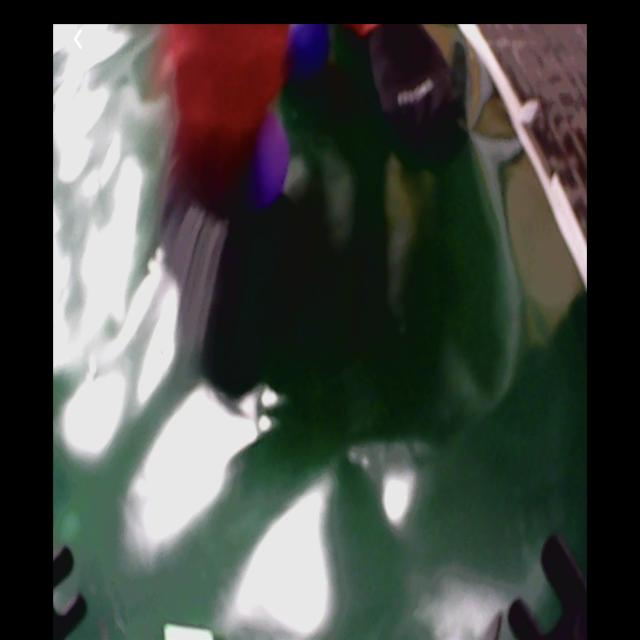ball: (250, 118, 290, 204), (292, 25, 331, 77)
